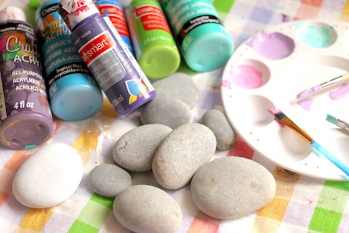egg: (3, 139, 86, 212)
stone: (187, 150, 280, 221), (151, 120, 221, 189), (110, 182, 189, 233), (106, 119, 175, 173), (141, 94, 196, 133), (200, 105, 240, 155), (89, 159, 134, 196)
